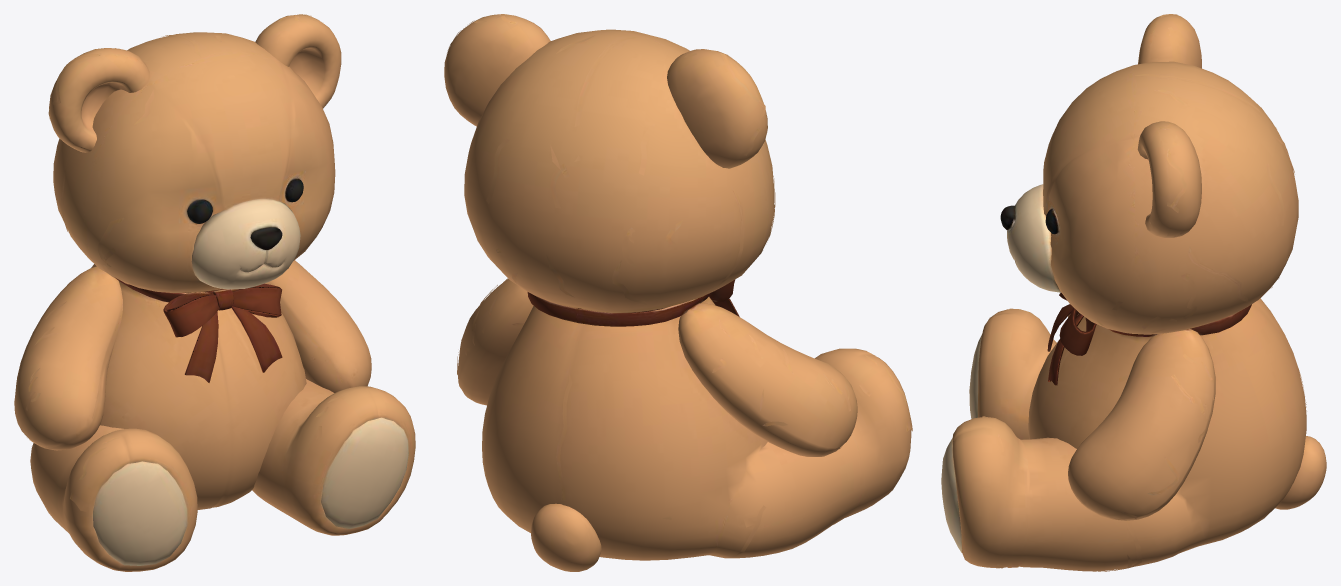
File: teddy.glb
The picture shows the model from 3 angles, left to right: view 1: azimuth 30°, elevation 25°; view 2: azimuth 150°, elevation 25°; view 3: azimuth 270°, elevation 25°; orthographic projection. The views are drawn at different scales.
Visible parts, largest first — view 1: tripo_07006522_201a_4ad8_afae_3cd8c70a6578; view 2: tripo_07006522_201a_4ad8_afae_3cd8c70a6578; view 3: tripo_07006522_201a_4ad8_afae_3cd8c70a6578.
Boxes of the visible parts, x1,y1,x2,y2 form: tripo_07006522_201a_4ad8_afae_3cd8c70a6578: [14, 14, 415, 571]; tripo_07006522_201a_4ad8_afae_3cd8c70a6578: [444, 14, 912, 571]; tripo_07006522_201a_4ad8_afae_3cd8c70a6578: [941, 14, 1326, 571].
Bounding box in the file's own units: 0.8003 × 0.9995 × 0.7554.
1 material, 1 textured.
